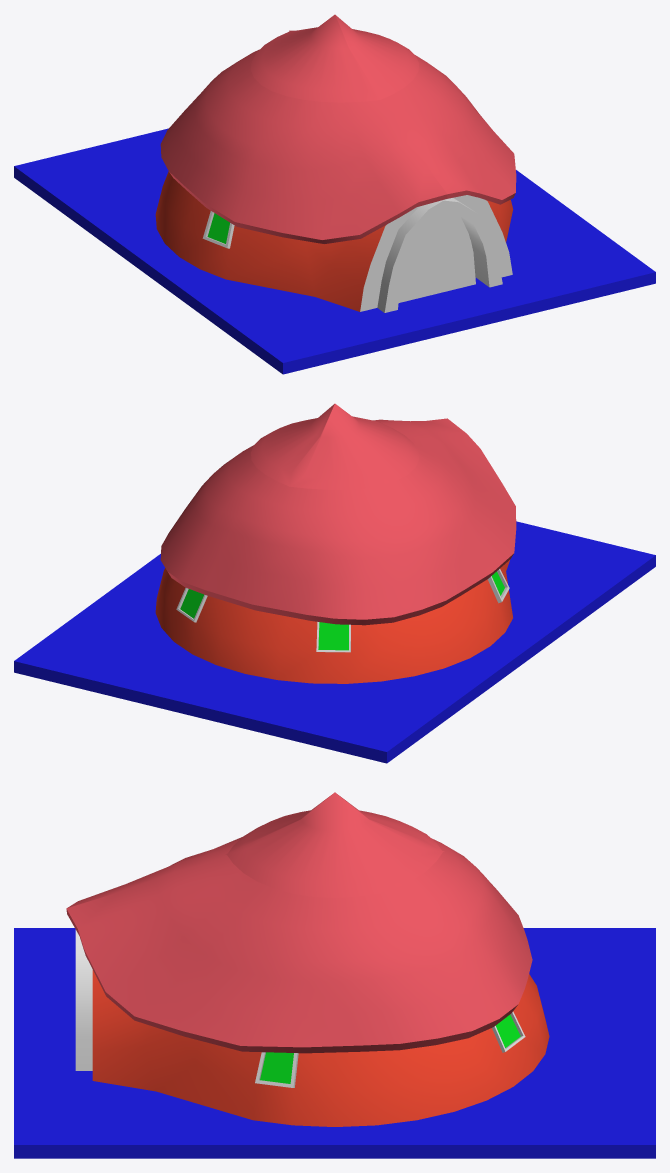
The model's file is basotho.fbx.
The picture shows the model from 3 angles, top to bottom: view 1: azimuth 30°, elevation 25°; view 2: azimuth 150°, elevation 25°; view 3: azimuth 270°, elevation 25°; orthographic projection. The views are drawn at different scales.
Visible parts, largest first — view 1: Basotho; view 2: Basotho; view 3: Basotho.
Boxes of the visible parts, x1,y1,x2,y2 form: Basotho: [14, 14, 655, 374]; Basotho: [14, 403, 655, 763]; Basotho: [14, 792, 655, 1158].
Size of the model in its own units: 84.93 by 47.05 by 106.
